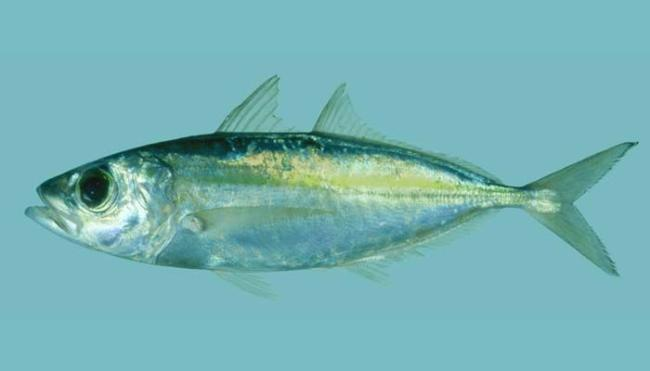fish: (24, 73, 640, 300)
